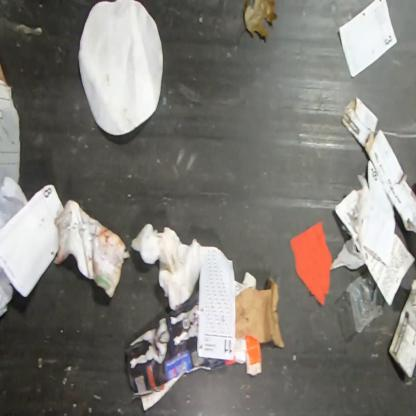cardboard: (234, 275, 284, 346)
rigid_plastic: (346, 270, 384, 333)
